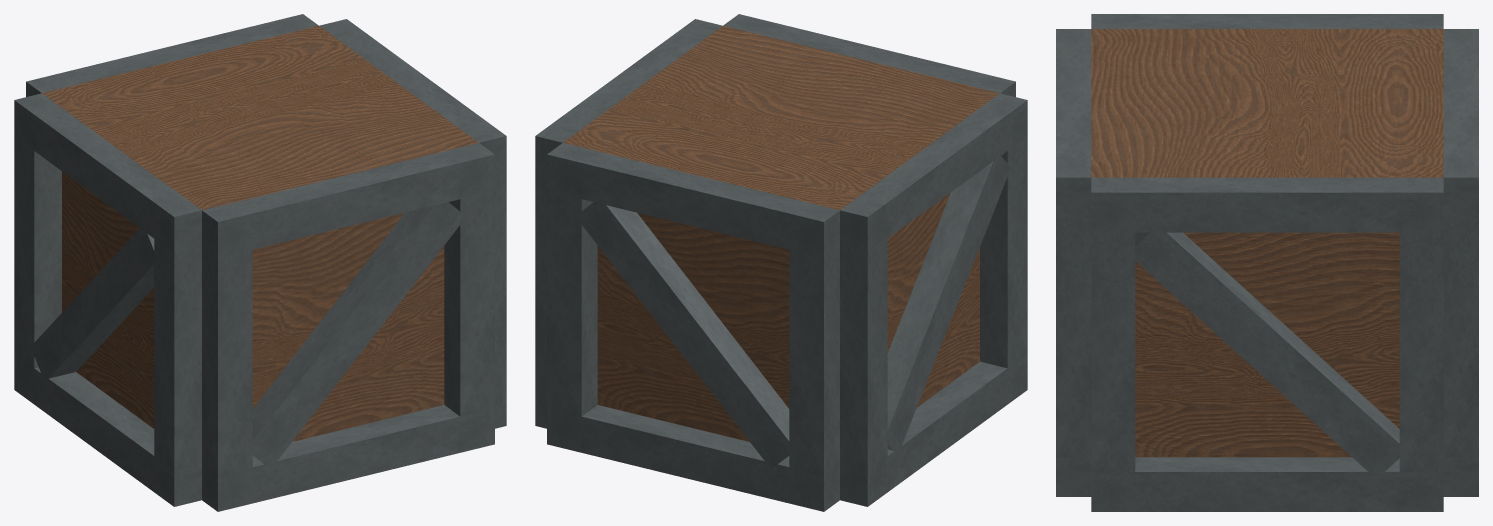
The model's file is Caixote_Metal.fbx.
3 renders of one model, left to right at view 1: azimuth 30°, elevation 25°; view 2: azimuth 150°, elevation 25°; view 3: azimuth 270°, elevation 25°, orthographic. The views are drawn at different scales.
Parts seen in each view (by area): view 1: Caixote; view 2: Caixote; view 3: Caixote.
Boxes of the visible parts, x1,y1,x2,y2 form: Caixote: (14,14,506,511); Caixote: (535,14,1027,511); Caixote: (1056,14,1478,511).
Bounding box in the file's own units: 60 × 50 × 60.
2 materials, 2 textured.
